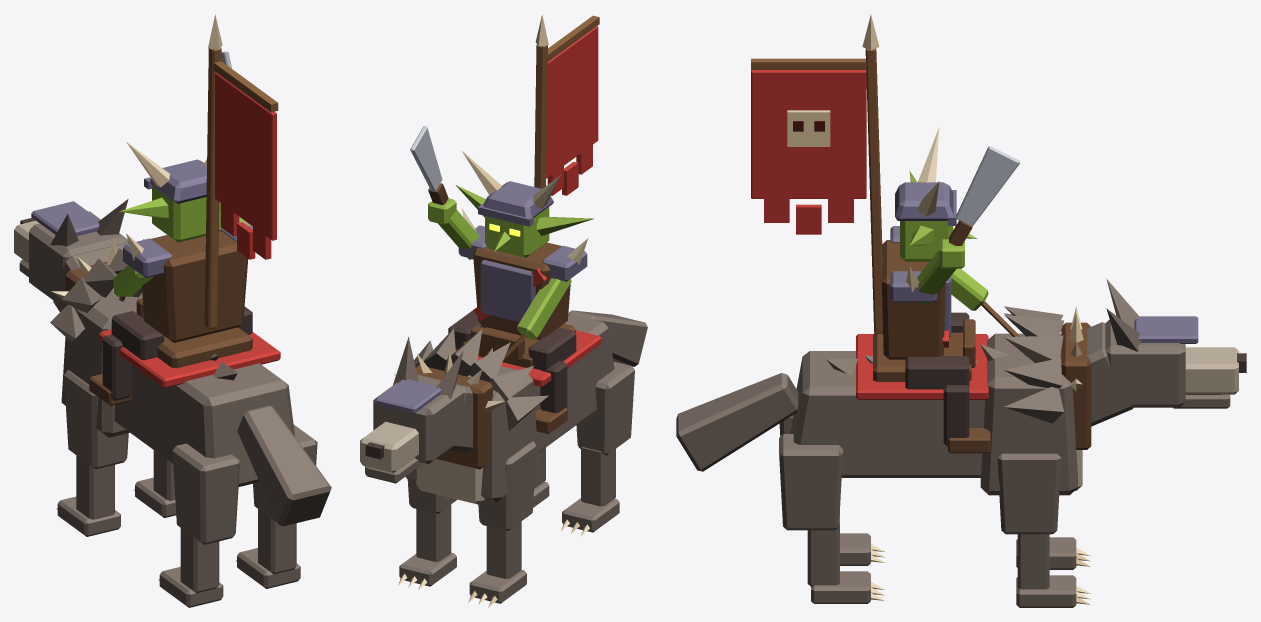
File: goblin_rider.glb
The picture shows the model from 3 angles, left to right: view 1: azimuth 30°, elevation 25°; view 2: azimuth 150°, elevation 25°; view 3: azimuth 270°, elevation 25°; orthographic projection. The views are drawn at different scales.
Visible parts, largest first — view 1: Body, LegBL, LegFL, LegBR, LegFR; view 2: Body, LegBL, LegFL, LegFR, LegBR; view 3: Body, LegBR, LegFR, LegBL, LegFL.
Part boxes in pixels (x1=…): Body: x1=14, y1=14, x2=331, y2=526; LegBL: x1=158, y1=443, x2=240, y2=607; LegFL: x1=56, y1=370, x2=128, y2=536; LegBR: x1=236, y1=424, x2=317, y2=588; LegFR: x1=134, y1=450, x2=176, y2=517; Body: x1=360, y1=15, x2=647, y2=504; LegBL: x1=561, y1=361, x2=634, y2=535; LegFL: x1=468, y1=441, x2=536, y2=607; LegFR: x1=398, y1=480, x2=457, y2=590; LegBR: x1=533, y1=447, x2=549, y2=507; Body: x1=676, y1=14, x2=1246, y2=495; LegBR: x1=779, y1=434, x2=885, y2=603; LegFR: x1=997, y1=453, x2=1090, y2=607; LegBL: x1=779, y1=415, x2=885, y2=565; LegFL: x1=1016, y1=537, x2=1090, y2=569.
Bounding box in the file's own units: 0.86 × 2.93 × 2.66.
